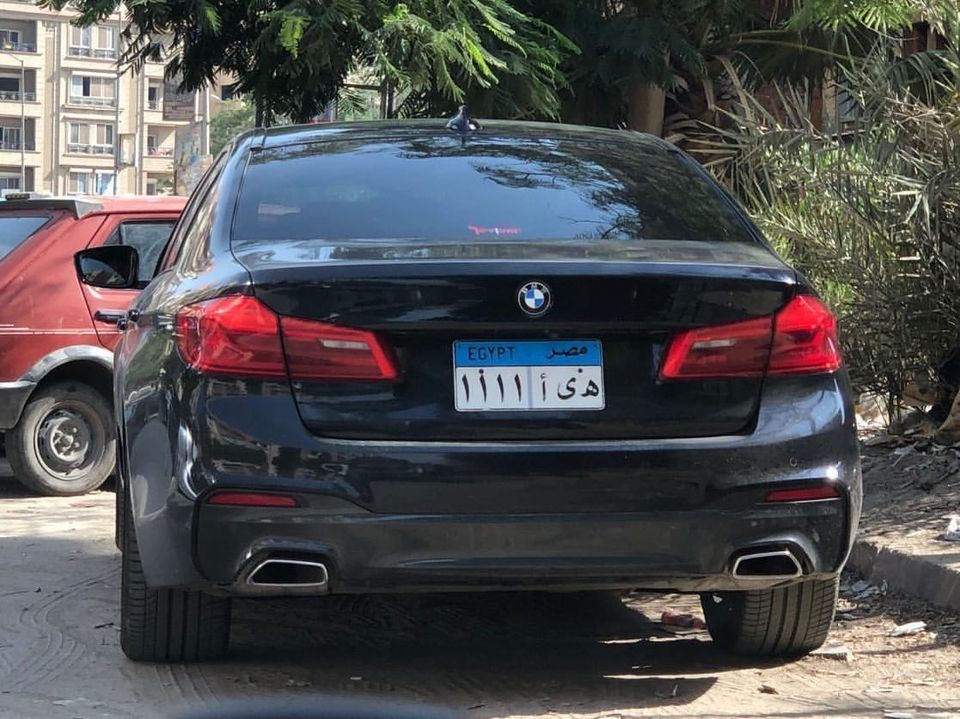carpl: (457, 364, 606, 410)
